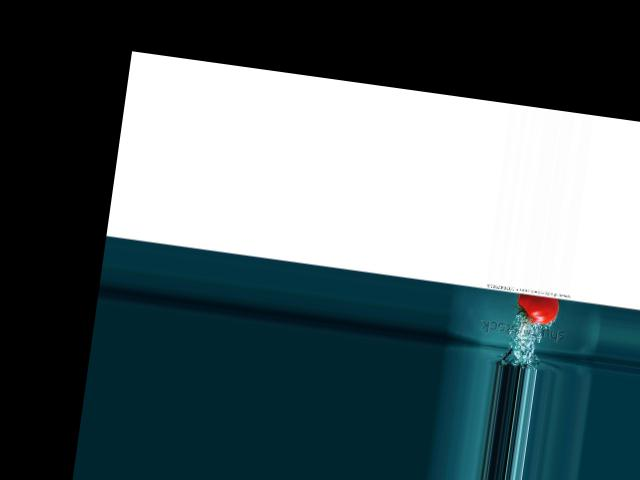tomato: (513, 292, 559, 326)
